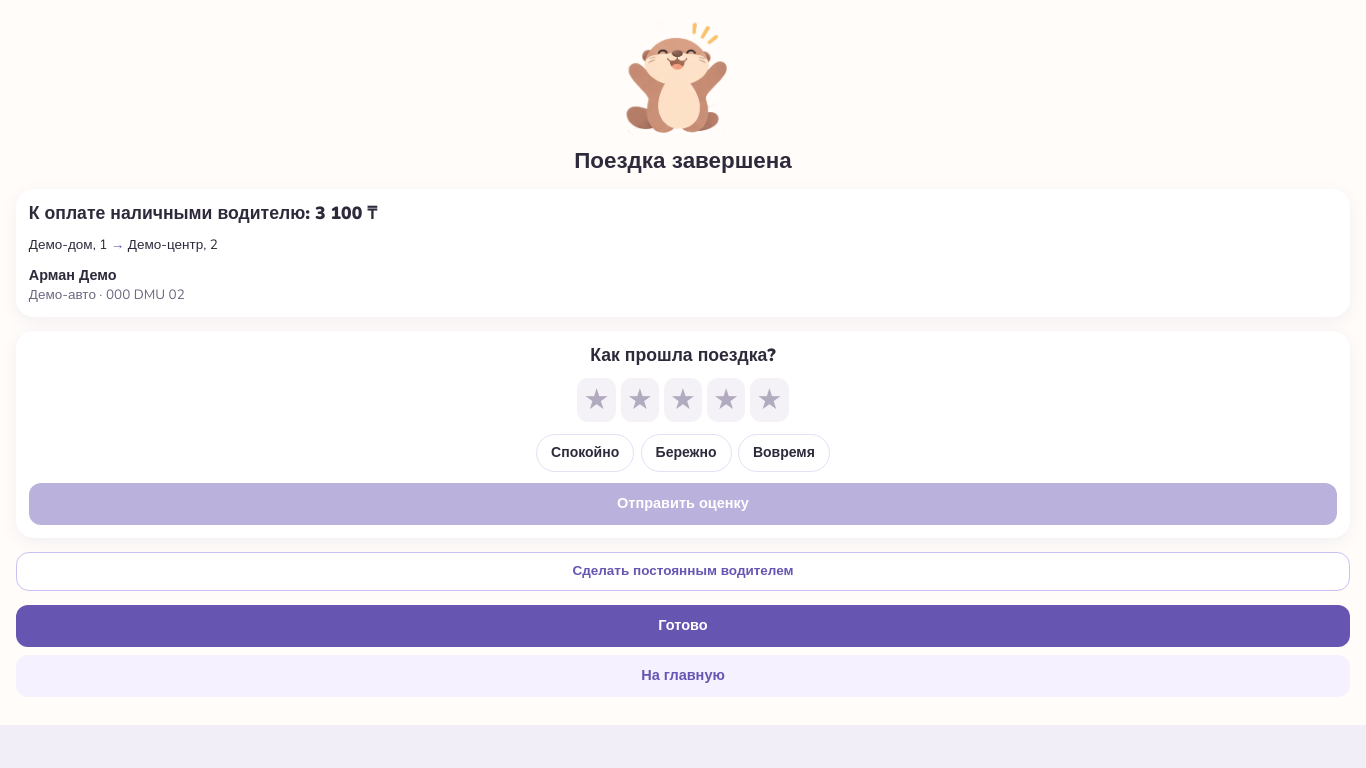
favourite and navigation › storage failure reports error without marking favourite as saved
The width and height of the screenshot is (1366, 768).
Click the button "Сделать постоянным водителем".
click(683, 572)  # box [16,552,1350,591]
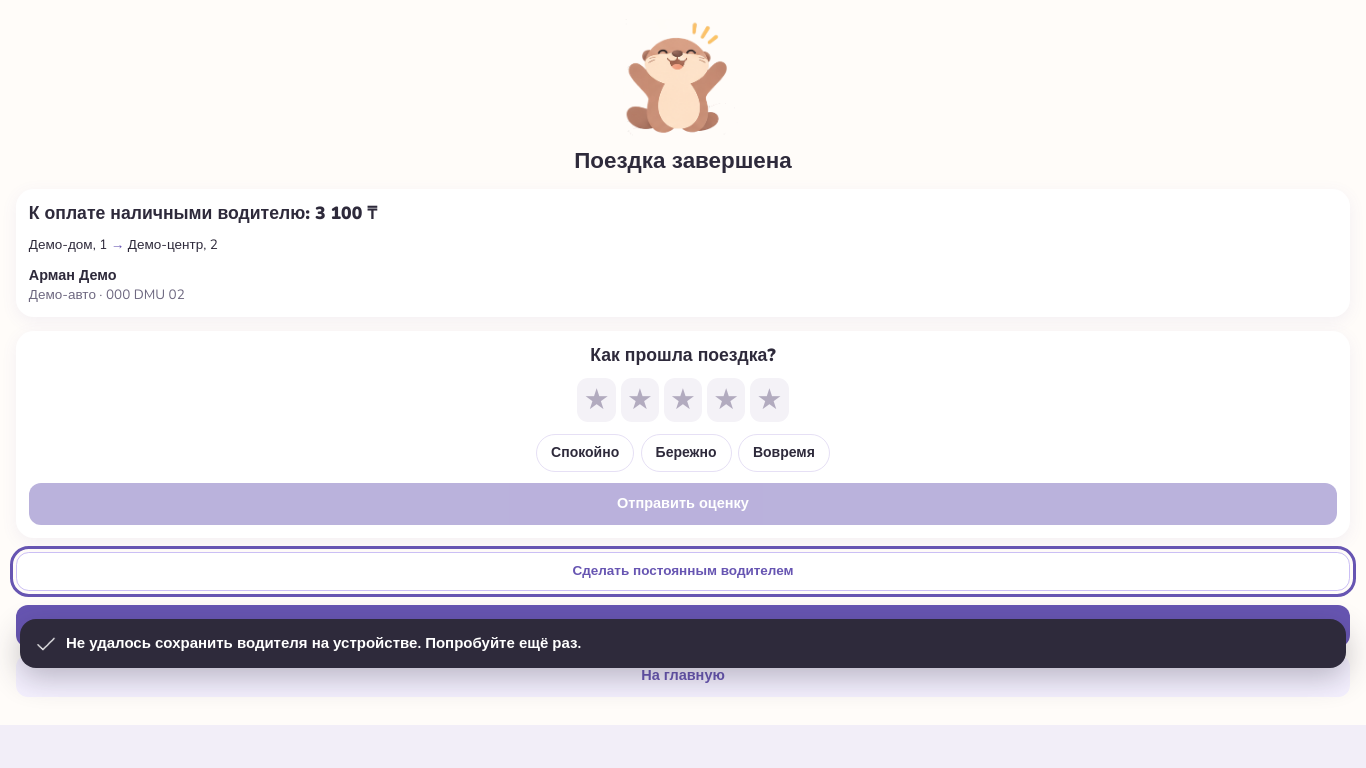
Now the text "Не удалось сохранить водителя на устройстве. Попробуйте ещё раз." is shown, box [66,633,581,654]
